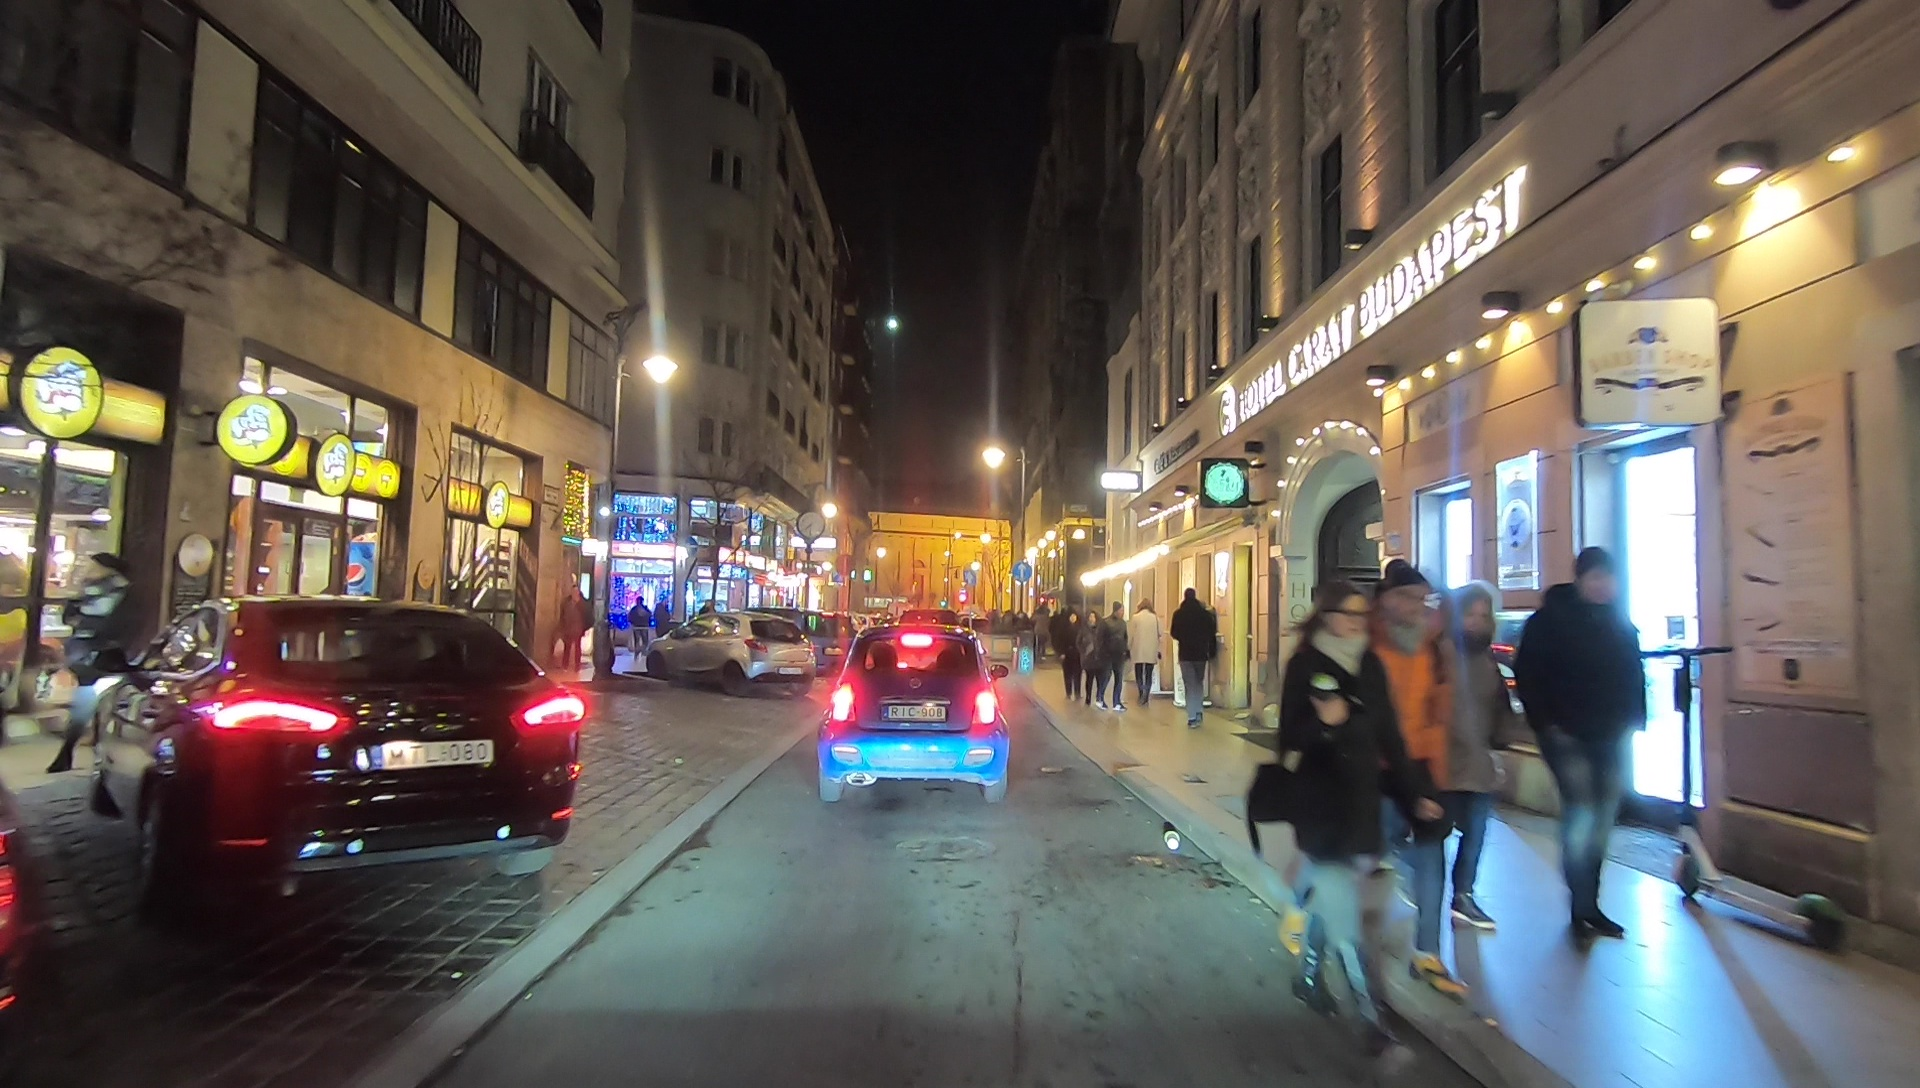person: (1249, 580, 1430, 1049), (1525, 554, 1643, 947), (1371, 576, 1469, 1008), (1443, 586, 1501, 937), (56, 548, 131, 775), (1175, 588, 1217, 728), (1132, 599, 1161, 705), (1097, 604, 1126, 709), (561, 584, 590, 666), (1062, 611, 1083, 703), (1081, 611, 1102, 700), (629, 597, 651, 655), (656, 598, 669, 652)
